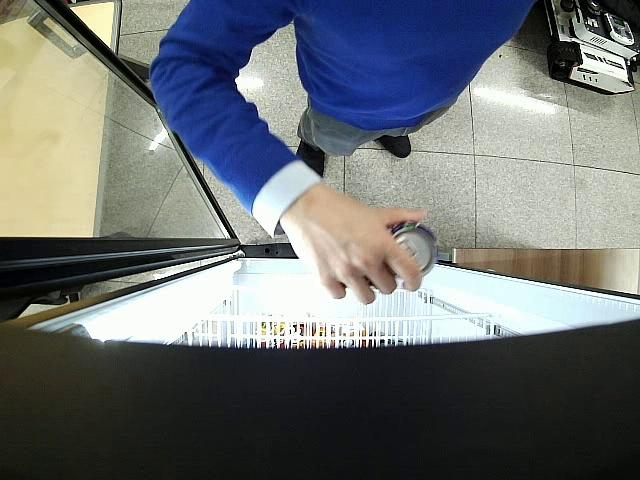00_hand: (281, 187, 427, 304)
